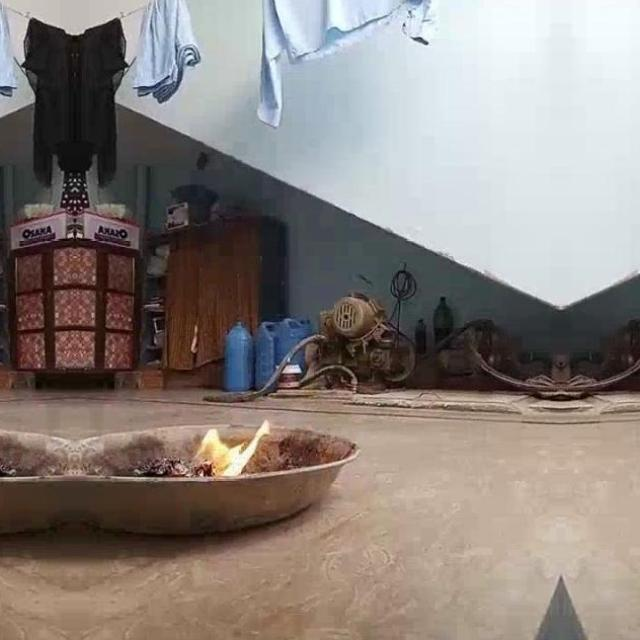smoke: (192, 418, 270, 476)
